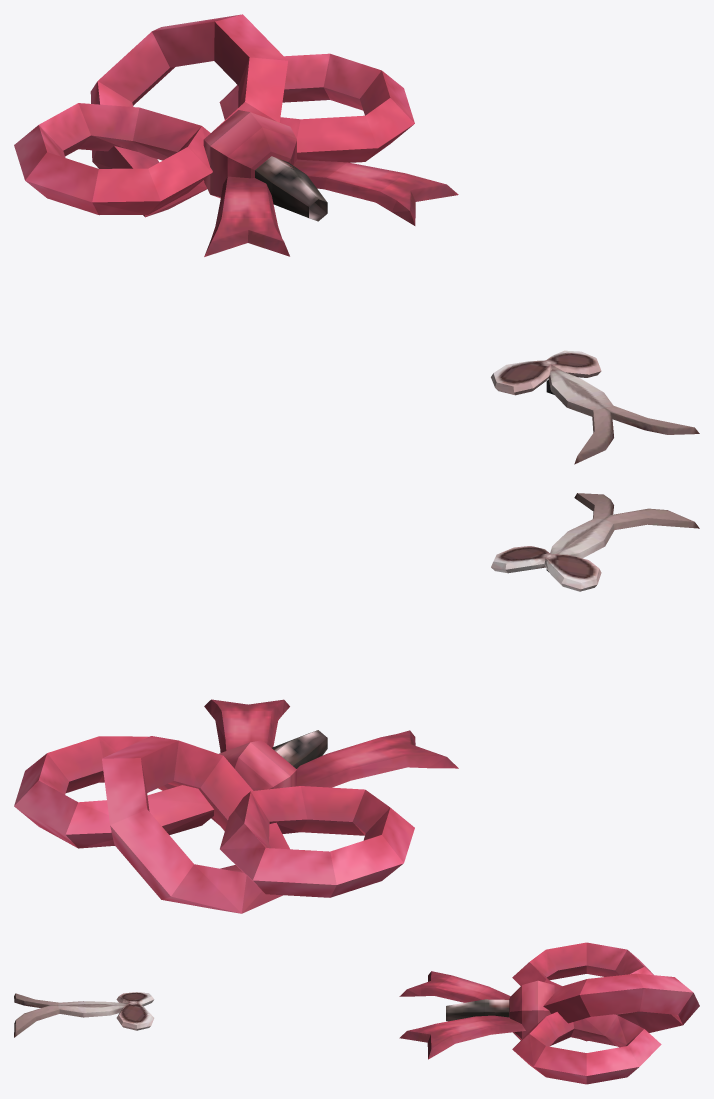
Rendered from Bat_bdWeapon.obj.
The picture shows the model from 3 angles, top to bottom: view 1: azimuth 30°, elevation 25°; view 2: azimuth 150°, elevation 25°; view 3: azimuth 270°, elevation 25°; orthographic projection. The views are drawn at different scales.
Visible parts, largest first — view 1: Bat_bdWeapon_tri; view 2: Bat_bdWeapon_tri; view 3: Bat_bdWeapon_tri.
Part boxes in pixels (x1,y1,x2,y2): Bat_bdWeapon_tri: [14, 14, 699, 464]; Bat_bdWeapon_tri: [14, 493, 699, 913]; Bat_bdWeapon_tri: [14, 942, 699, 1084].
Bounding box in the file's own units: 0.4842 × 0.1715 × 1.12.
1 material, 1 textured.
